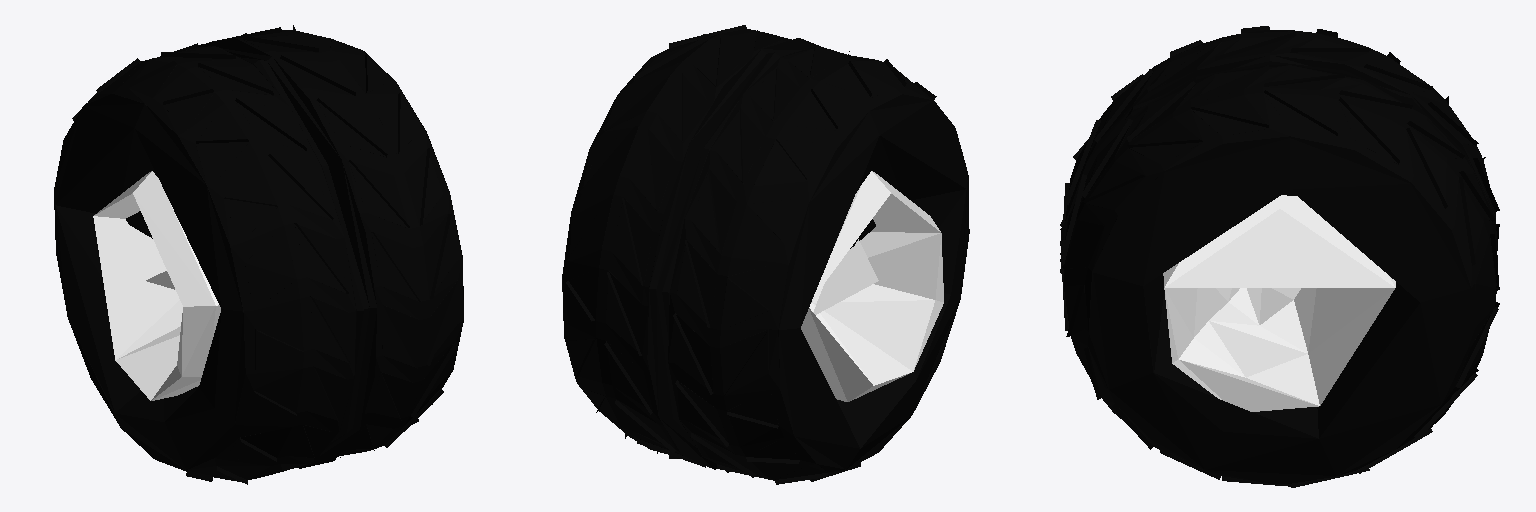
File: tire.obj
The picture shows the model from 3 angles: view 1: azimuth 30°, elevation 25°; view 2: azimuth 150°, elevation 25°; view 3: azimuth 270°, elevation 25°; orthographic projection.
Parts seen in each view (by area): view 1: tire_kart.001; view 2: tire_kart.001; view 3: tire_kart.001.
Boxes of the visible parts, x1,y1,x2,y2 form: tire_kart.001: [54, 25, 463, 484]; tire_kart.001: [562, 25, 969, 484]; tire_kart.001: [1060, 26, 1499, 487].
Size of the model in its own units: 12.91 by 19.73 by 19.66.